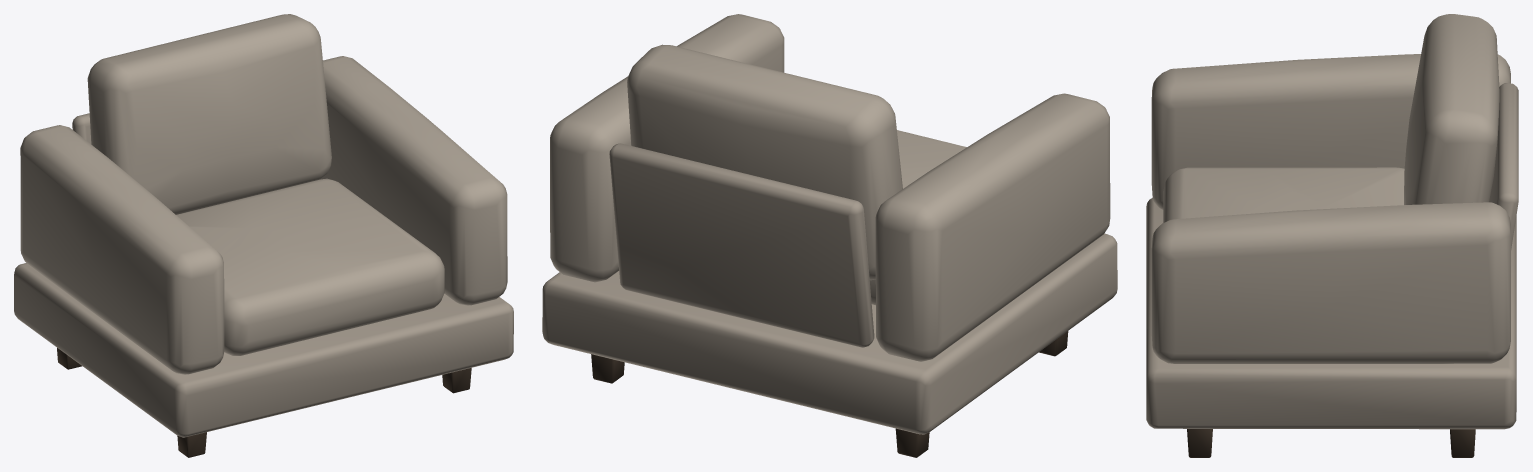
File: armchair.glb
The picture shows the model from 3 angles, left to right: view 1: azimuth 30°, elevation 25°; view 2: azimuth 150°, elevation 25°; view 3: azimuth 270°, elevation 25°; orthographic projection. The views are drawn at different scales.
Visible parts, largest first — view 1: EQ_Mobile_armchair_Upholstery, EQ_Mobile_armchair_OakStructure; view 2: EQ_Mobile_armchair_Upholstery, EQ_Mobile_armchair_OakStructure; view 3: EQ_Mobile_armchair_Upholstery, EQ_Mobile_armchair_OakStructure.
Boxes of the visible parts, x1,y1,x2,y2 form: EQ_Mobile_armchair_Upholstery: (14, 14, 513, 437); EQ_Mobile_armchair_OakStructure: (57, 348, 471, 457); EQ_Mobile_armchair_Upholstery: (542, 14, 1117, 434); EQ_Mobile_armchair_OakStructure: (591, 331, 1068, 457); EQ_Mobile_armchair_Upholstery: (1146, 14, 1518, 429); EQ_Mobile_armchair_OakStructure: (1187, 429, 1475, 457).
Bounding box in the file's own units: 1.11 × 0.9153 × 0.9639.
